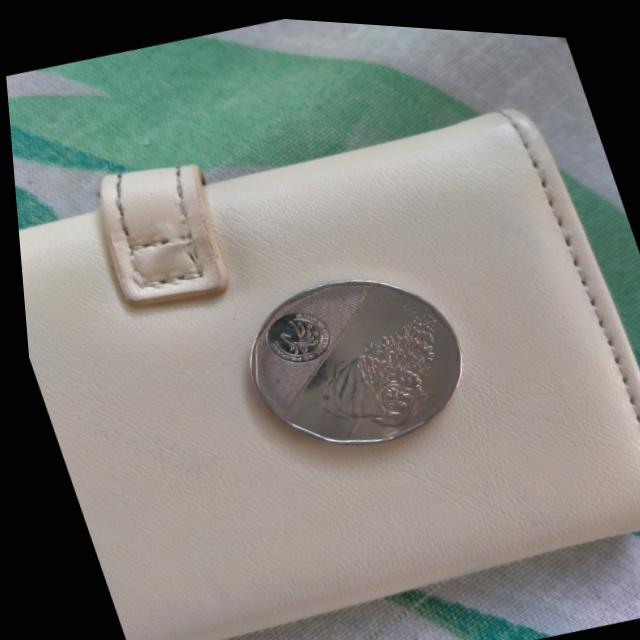10_New_Back: (291, 280, 489, 462)
